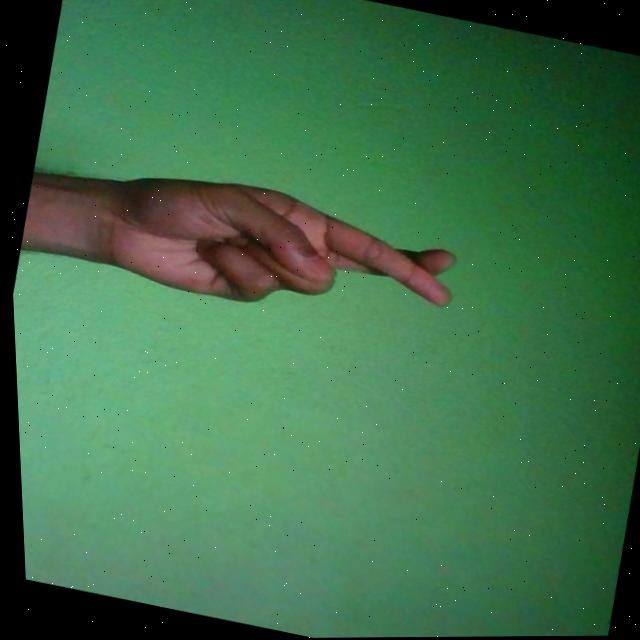Good Luck: (78, 154, 464, 348)
